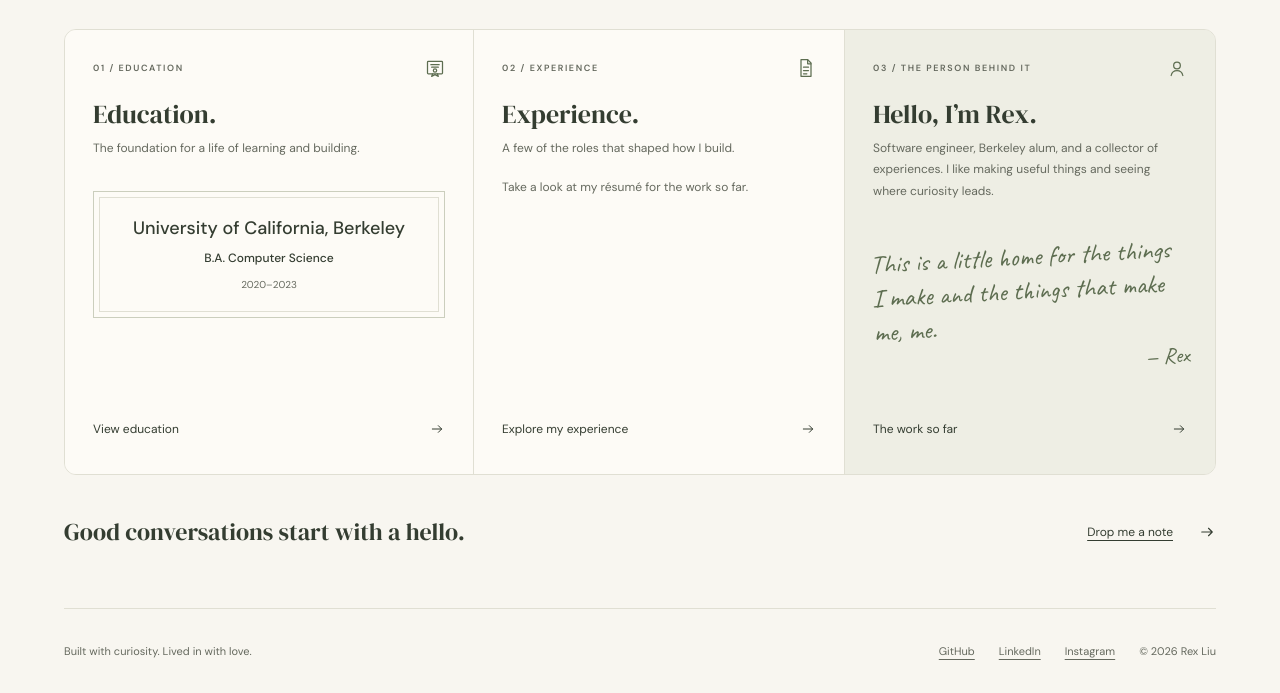
Test: the education preview features Berkeley even when another education is first
This screenshot has width=1280, height=693.
(page scrolled)
Expected: the text "University of California, Berkeley" is shown, x1=118 y1=216 x2=420 y2=240
Expected: the text "Another institution" is not shown
Click the button "View education": click(136, 429) x1=93 y1=402 x2=445 y2=446
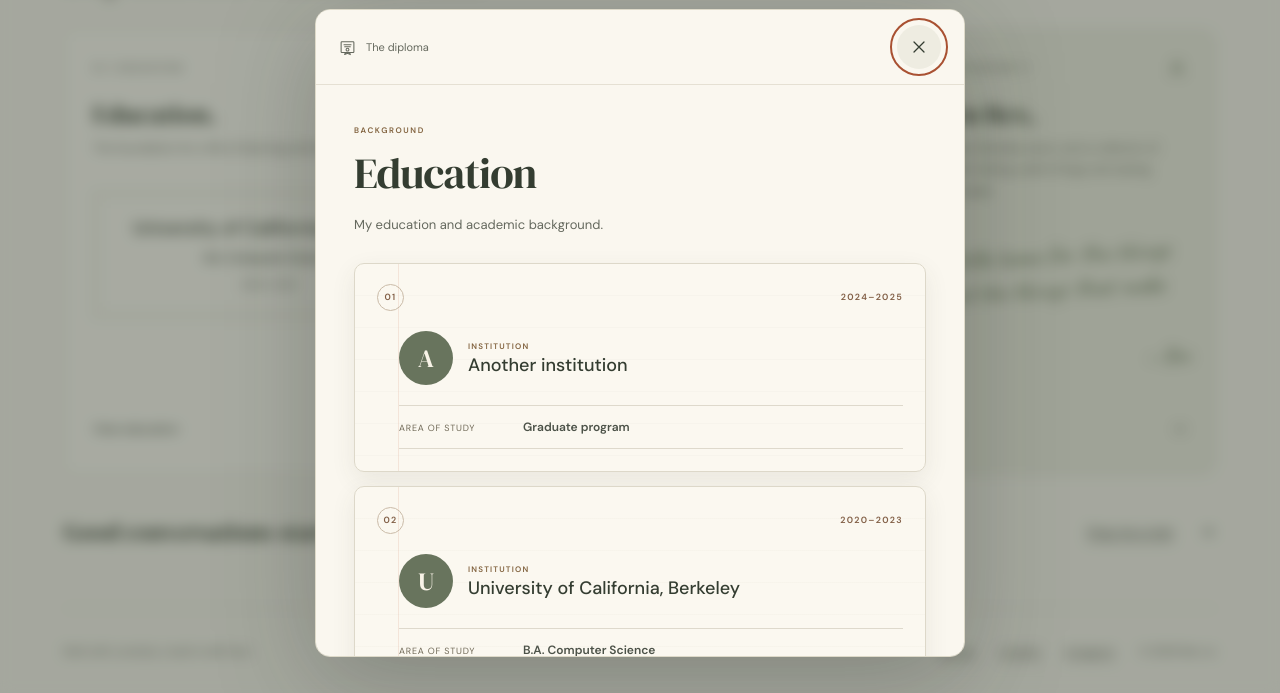
Now the headings read "Another institution", "University of California, Berkeley", in this order, box x1=468 y1=353 x2=628 y2=377; x1=468 y1=576 x2=740 y2=600
